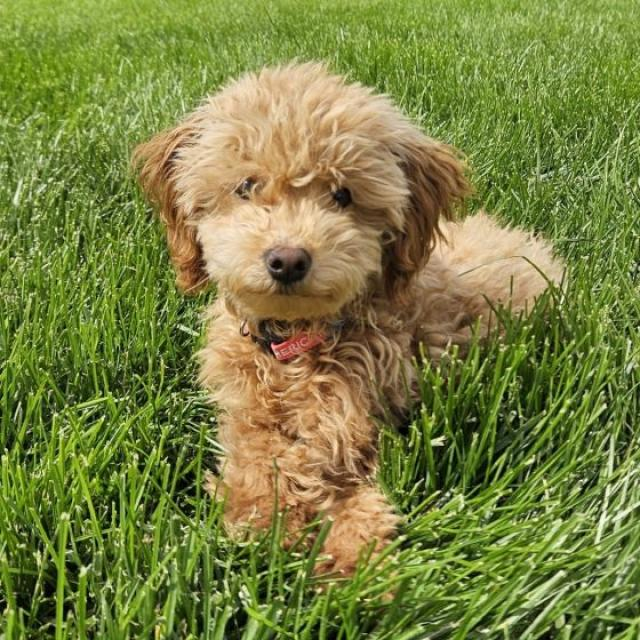Poodle_dog: (110, 42, 480, 380)
